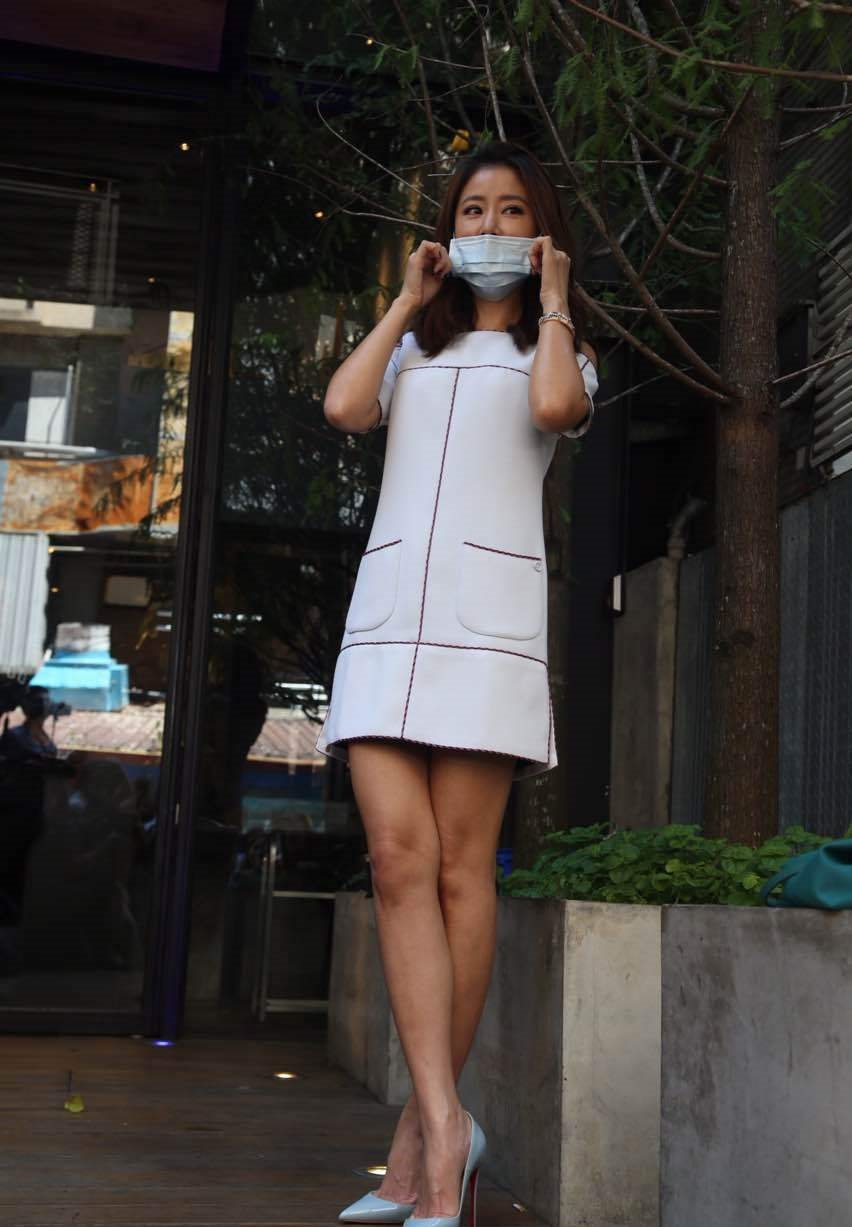face_mask: (455, 163, 533, 292)
